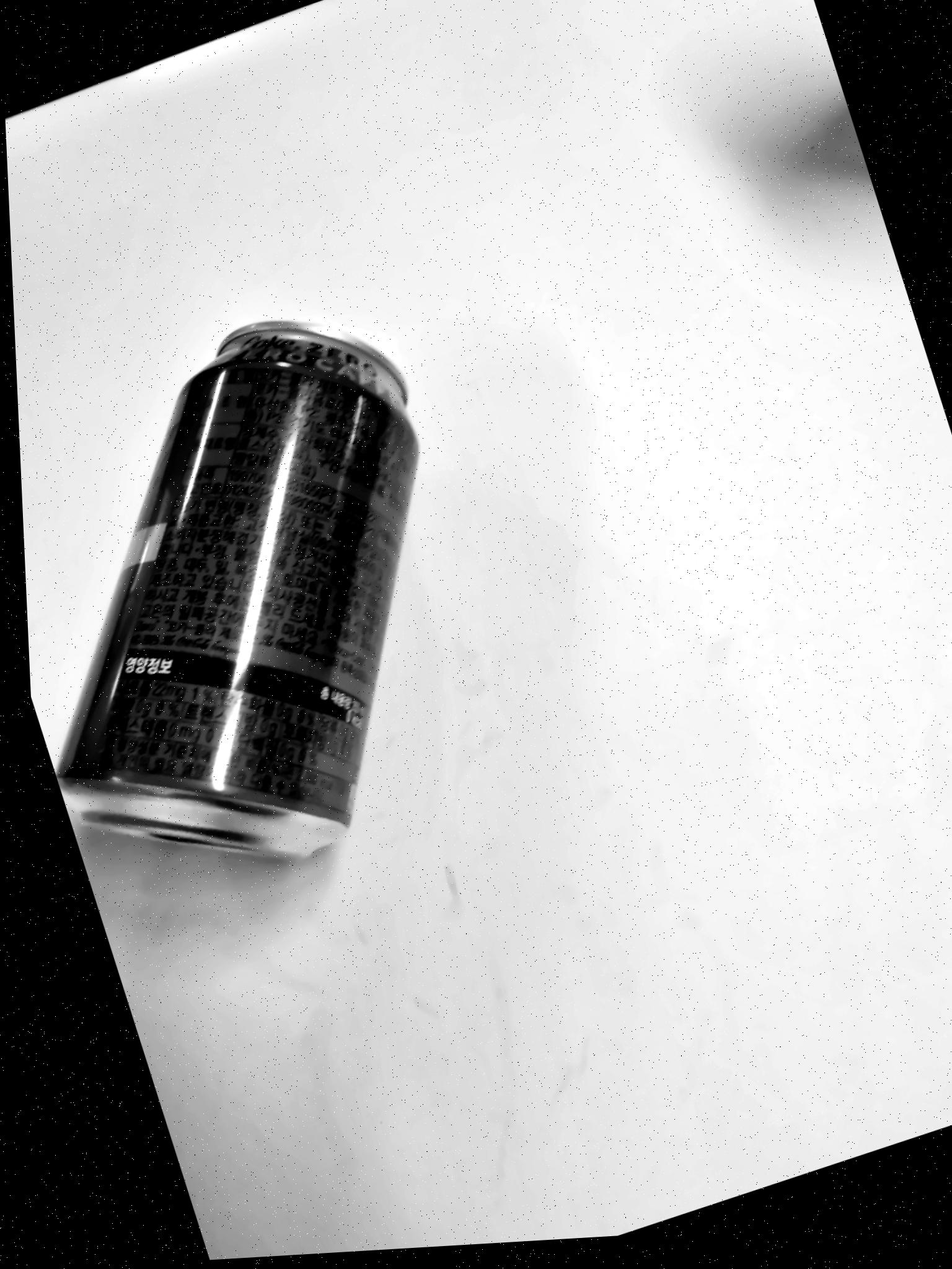can_coke_decaf: (57, 320, 417, 856)
